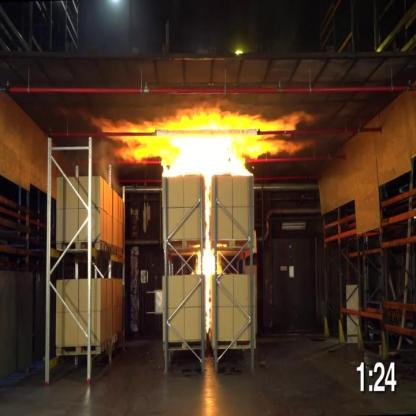fire: (87, 102, 321, 172), (194, 177, 224, 338)
